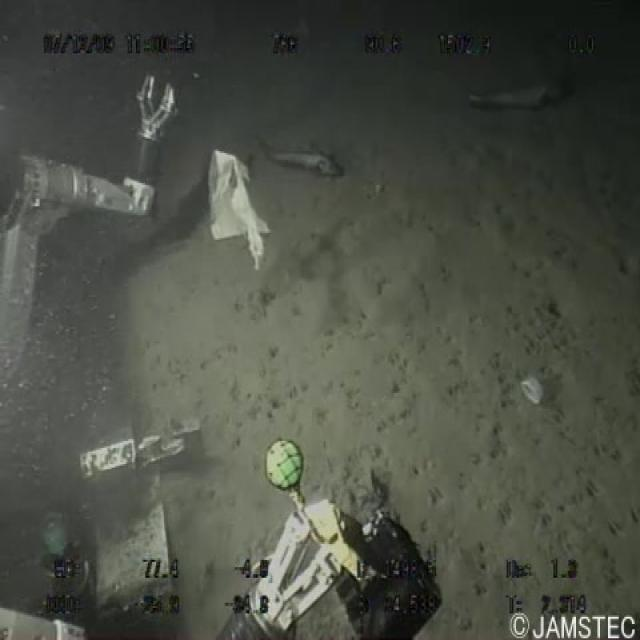plastic: (197, 144, 275, 277), (513, 370, 547, 410)
